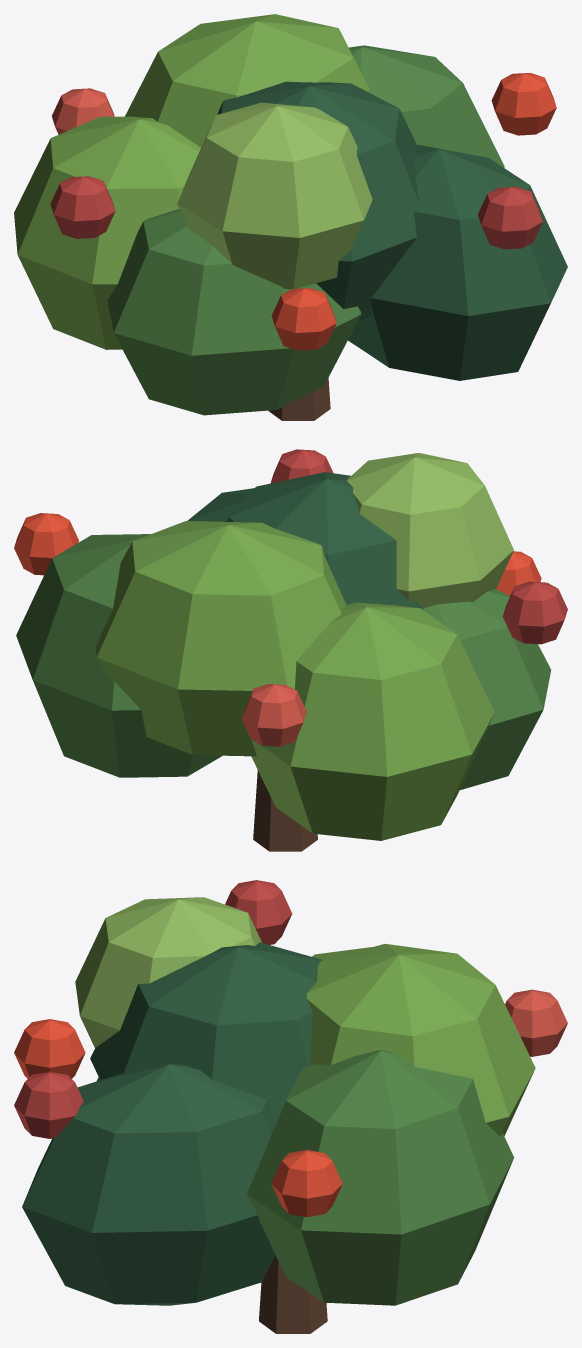
File: bush.glb
The picture shows the model from 3 angles, top to bottom: view 1: azimuth 30°, elevation 25°; view 2: azimuth 150°, elevation 25°; view 3: azimuth 270°, elevation 25°; orthographic projection. The views are drawn at different scales.
Parts seen in each view (by area): view 1: decor_bush_foliage_01, decor_bush_foliage_00, decor_bush_foliage_06, decor_bush_foliage_02, decor_bush_foliage_05, decor_bush_foliage_04, decor_bush_foliage_03, decor_bush_berry_1, decor_bush_berry_3, decor_bush_berry_0, decor_bush_berry_4, decor_bush_berry_2 (+1 smaller); view 2: decor_bush_foliage_05, decor_bush_foliage_02, decor_bush_foliage_03, decor_bush_foliage_06, decor_bush_foliage_04, decor_bush_foliage_00, decor_bush_berry_2, decor_bush_berry_4, decor_bush_berry_3, Bush_main_stem, decor_bush_berry_1, decor_bush_berry_0 (+1 smaller); view 3: decor_bush_foliage_01, decor_bush_foliage_03, decor_bush_foliage_05, decor_bush_foliage_04, decor_bush_foliage_06, decor_bush_berry_3, decor_bush_berry_1, Bush_main_stem, decor_bush_berry_0, decor_bush_berry_2, decor_bush_berry_4.
Part boxes in pixels (<box>): decor_bush_foliage_01: <box>348,145,567,380</box>; decor_bush_foliage_00: <box>107,209,361,415</box>; decor_bush_foliage_06: <box>177,102,372,289</box>; decor_bush_foliage_02: <box>14,116,200,349</box>; decor_bush_foliage_05: <box>125,14,369,147</box>; decor_bush_foliage_04: <box>217,81,419,320</box>; decor_bush_foliage_03: <box>349,45,504,167</box>; decor_bush_berry_1: <box>478,186,542,249</box>; decor_bush_berry_3: <box>491,73,556,135</box>; decor_bush_berry_0: <box>271,288,336,350</box>; decor_bush_berry_4: <box>50,176,115,238</box>; decor_bush_berry_2: <box>52,88,114,134</box>; decor_bush_foliage_05: <box>95,521,346,756</box>; decor_bush_foliage_02: <box>251,602,494,840</box>; decor_bush_foliage_03: <box>16,534,222,777</box>; decor_bush_foliage_06: <box>347,453,513,608</box>; decor_bush_foliage_04: <box>226,472,423,609</box>; decor_bush_foliage_00: <box>423,589,551,789</box>; decor_bush_berry_2: <box>241,684,306,746</box>; decor_bush_berry_4: <box>502,581,567,644</box>; decor_bush_berry_3: <box>14,513,78,575</box>; Bush_main_stem: <box>253,770,317,851</box>; decor_bush_berry_1: <box>271,449,333,483</box>; decor_bush_berry_0: <box>496,551,541,595</box>; decor_bush_foliage_01: <box>22,1064,275,1305</box>; decor_bush_foliage_03: <box>247,1050,513,1305</box>; decor_bush_foliage_05: <box>306,943,535,1136</box>; decor_bush_foliage_04: <box>90,942,323,1124</box>; decor_bush_foliage_06: <box>75,897,261,1048</box>; decor_bush_berry_3: <box>271,1150,342,1217</box>; decor_bush_berry_1: <box>14,1071,83,1138</box>; Bush_main_stem: <box>259,1255,327,1333</box>; decor_bush_berry_0: <box>14,1019,85,1078</box>; decor_bush_berry_2: <box>505,989,567,1056</box>; decor_bush_berry_4: <box>225,880,292,944</box>.
Bounding box in the file's own units: 1.4 × 0.92 × 1.21.
